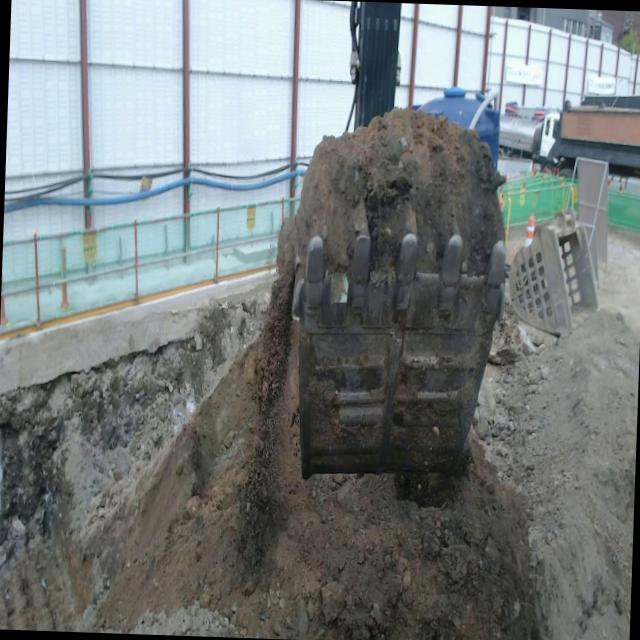cement: (0, 272, 271, 395)
red-sand: (0, 108, 639, 640)
